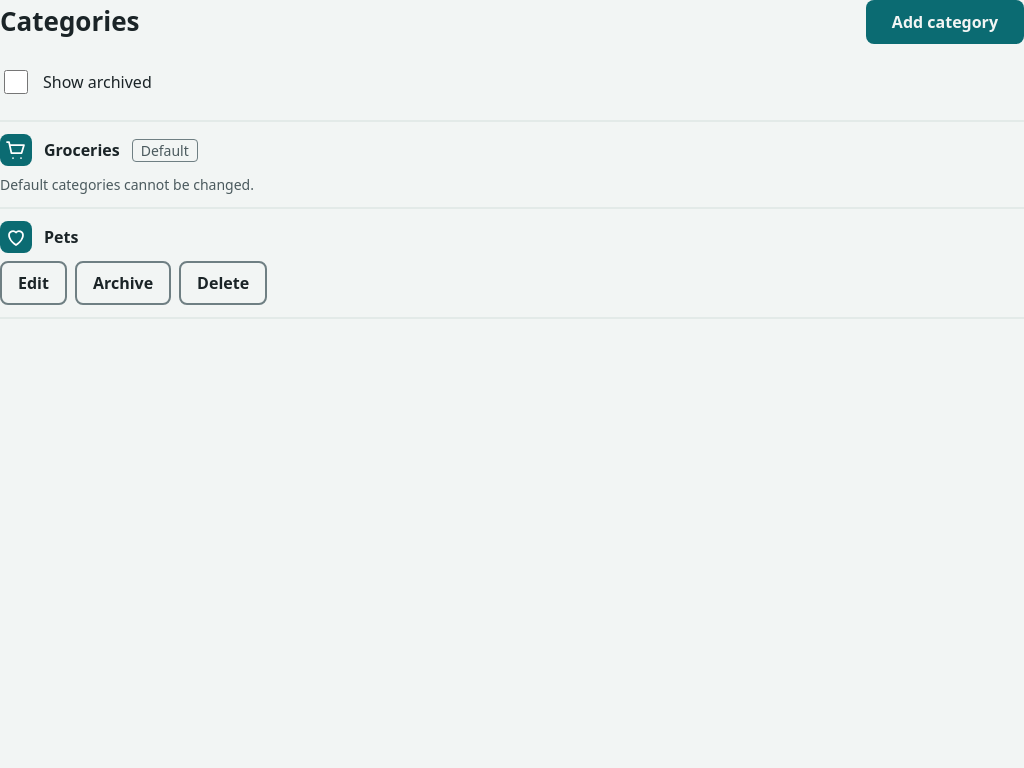
Test case: CategoriesView › creates a category from the sheet and closes it
This screenshot has width=1024, height=768.
Step 1. Click the button "Add category" → (945, 22), box [866, 0, 1023, 44]
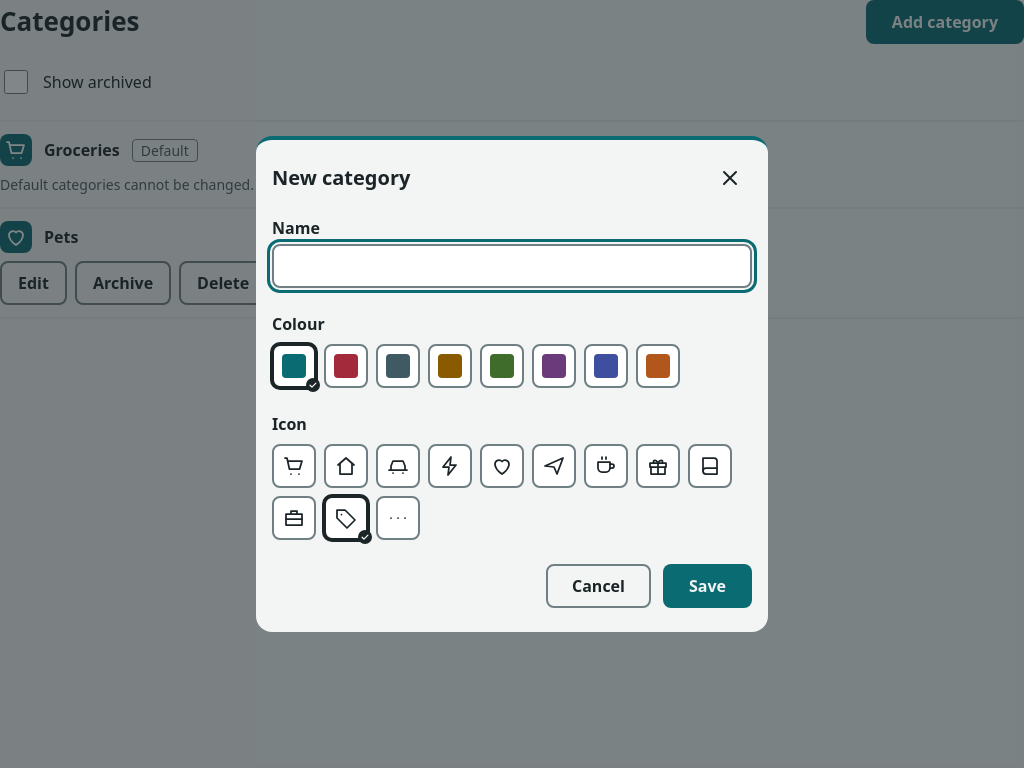
Check: the heading "New category" is shown, box [272, 166, 410, 190]
Step 2. Type "Gym" into the field labelled "Name" → (512, 266), box [272, 244, 752, 288]
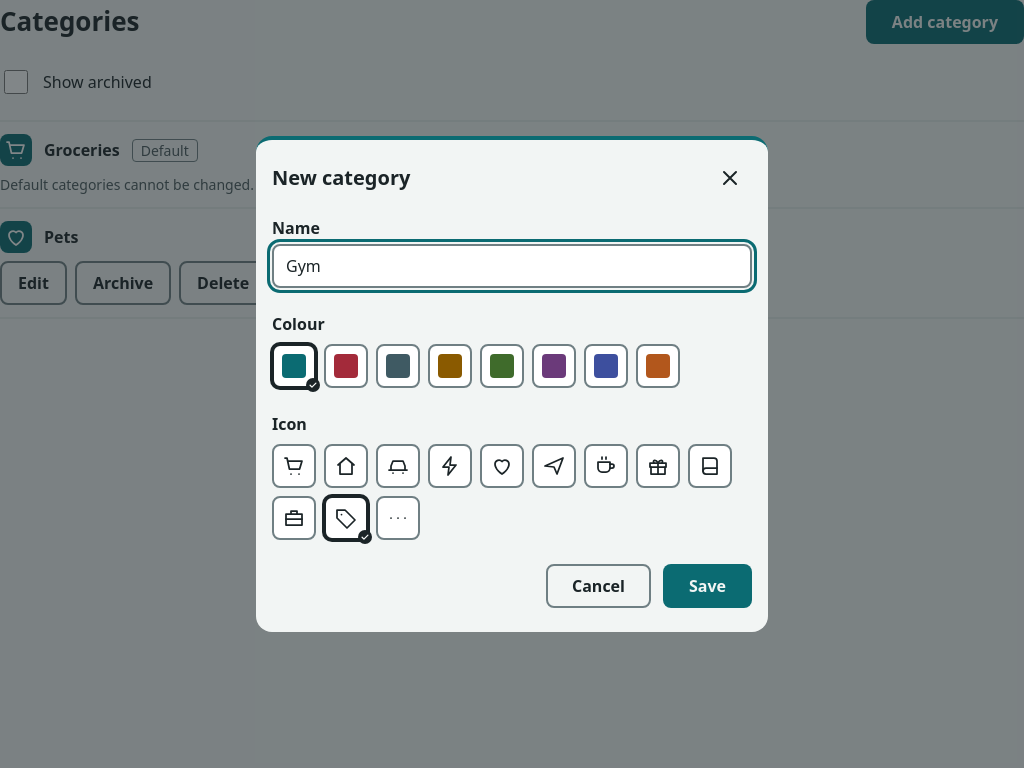
Step 3. Submit the form, box [272, 216, 752, 608]
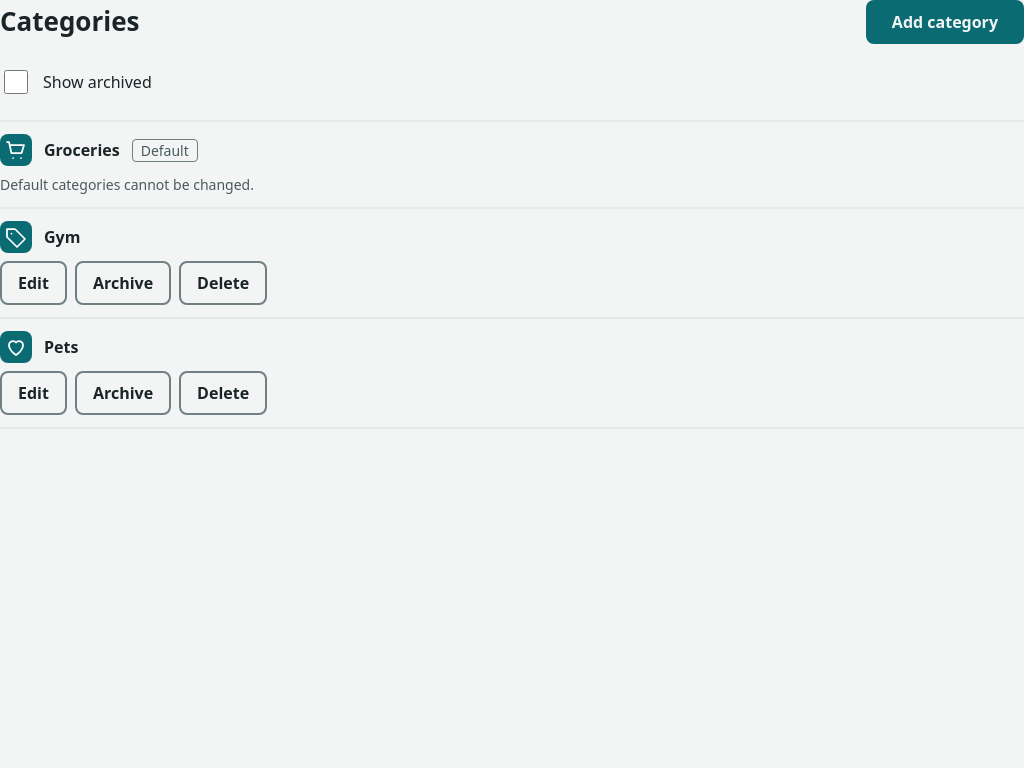
Check: the text "Gym" is shown, box [44, 225, 80, 249]
